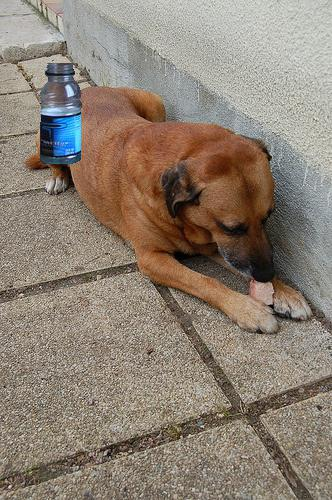tampered: (41, 64, 82, 164)
